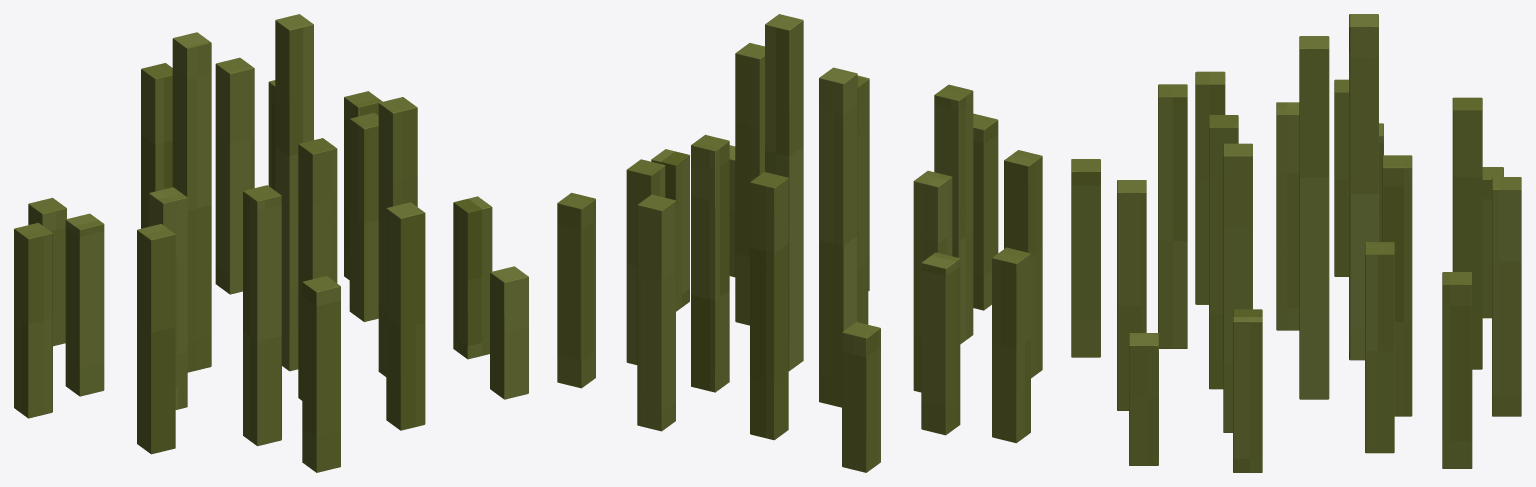
The model's file is Shoots.glb.
3 renders of one model, left to right at view 1: azimuth 30°, elevation 25°; view 2: azimuth 150°, elevation 25°; view 3: azimuth 270°, elevation 25°, orthographic. The views are drawn at different scales.
Visible parts, largest first — view 1: Shoots; view 2: Shoots; view 3: Shoots.
Part boxes in pixels (x1=…): Shoots: x1=14, y1=14, x2=528, y2=472; Shoots: x1=557, y1=14, x2=1042, y2=472; Shoots: x1=1071, y1=14, x2=1521, y2=472.
Bounding box in the file's own units: 0.2582 × 0.2029 × 0.2357.
1 material, 1 textured.
